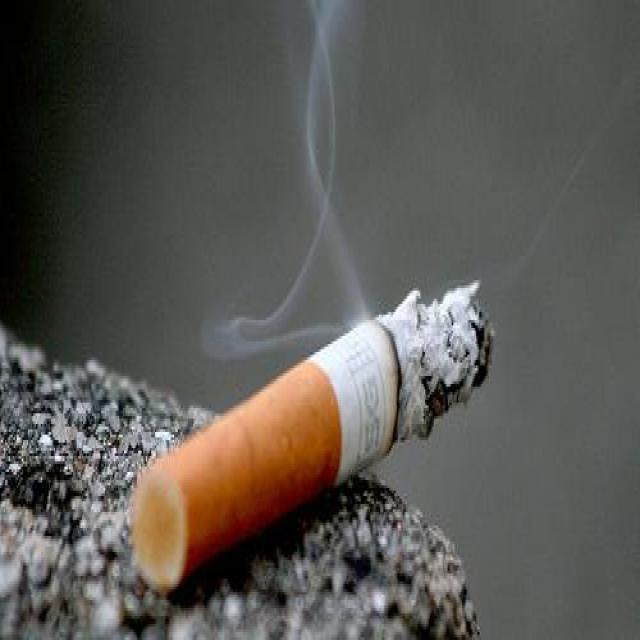cigarette: (126, 265, 508, 601)
